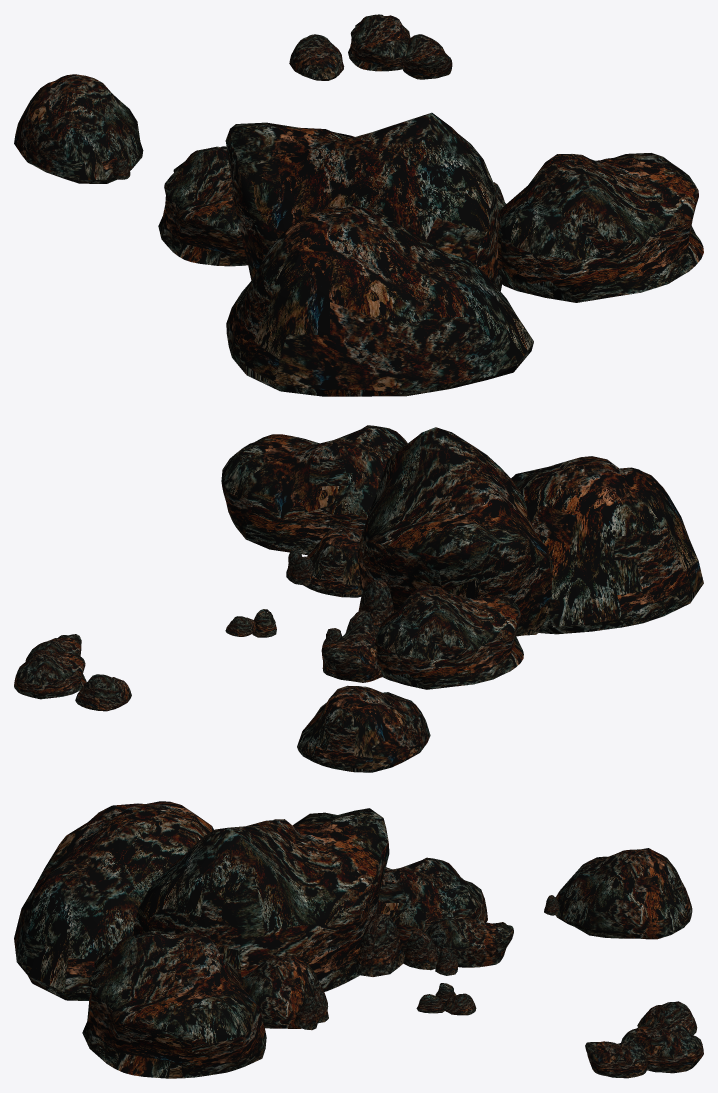
File: Rocks_shoreline.FBX
The picture shows the model from 3 angles, top to bottom: view 1: azimuth 30°, elevation 25°; view 2: azimuth 150°, elevation 25°; view 3: azimuth 270°, elevation 25°; orthographic projection. The views are drawn at different scales.
Visible parts, largest first — view 1: RockFormation1_004, RockFormation2_002, RockFormation3_002, RockFormation1_001, RockFormation3_001, RockFormation3_, RockFormation1_, RockFormation2_; view 2: RockFormation2_002, RockFormation1_004, RockFormation3_002, RockFormation3_001, RockFormation1_001, RockFormation1_002, RockFormation3_, RockFormation2_001, RockFormation1_, rock004, RockFormation2_, rock; view 3: RockFormation2_002, RockFormation3_002, RockFormation1_004, RockFormation1_001, RockFormation3_001, RockFormation1_002, RockFormation2_001, RockFormation3_, rock004, RockFormation2_, RockFormation1_, rock003 (+3 smaller).
Boxes of the visible parts, box(x1,y1,x2,y2) form: RockFormation1_004: box(226, 206, 533, 396); RockFormation2_002: box(225, 112, 501, 291); RockFormation3_002: box(497, 153, 703, 302); RockFormation1_001: box(14, 74, 143, 183); RockFormation3_001: box(158, 146, 247, 266); RockFormation3_: box(348, 14, 410, 71); RockFormation1_: box(289, 34, 344, 80); RockFormation2_: box(402, 34, 452, 79); RockFormation2_002: box(357, 427, 553, 636); RockFormation1_004: box(511, 456, 703, 634); RockFormation3_002: box(221, 425, 407, 555); RockFormation3_001: box(375, 585, 523, 689); RockFormation1_001: box(297, 685, 430, 772); RockFormation1_002: box(303, 527, 362, 597); RockFormation3_: box(14, 649, 86, 699); RockFormation2_001: box(321, 621, 383, 682); RockFormation1_: box(75, 674, 131, 711); rock004: box(358, 580, 393, 627); RockFormation2_: box(25, 634, 81, 661); rock: box(290, 556, 313, 585); RockFormation2_002: box(132, 808, 389, 991); RockFormation3_002: box(82, 930, 266, 1078); RockFormation1_004: box(14, 801, 213, 1000); RockFormation1_001: box(555, 848, 692, 939); RockFormation3_001: box(376, 857, 487, 956); RockFormation1_002: box(240, 955, 328, 1028); RockFormation2_001: box(425, 916, 513, 967); RockFormation3_: box(621, 1024, 703, 1073); rock004: box(355, 913, 404, 976); RockFormation2_: box(585, 1039, 647, 1078); RockFormation1_: box(637, 1001, 697, 1035); rock003: box(403, 930, 437, 970).
Size of the model in its own units: 374 by 135 by 507.
